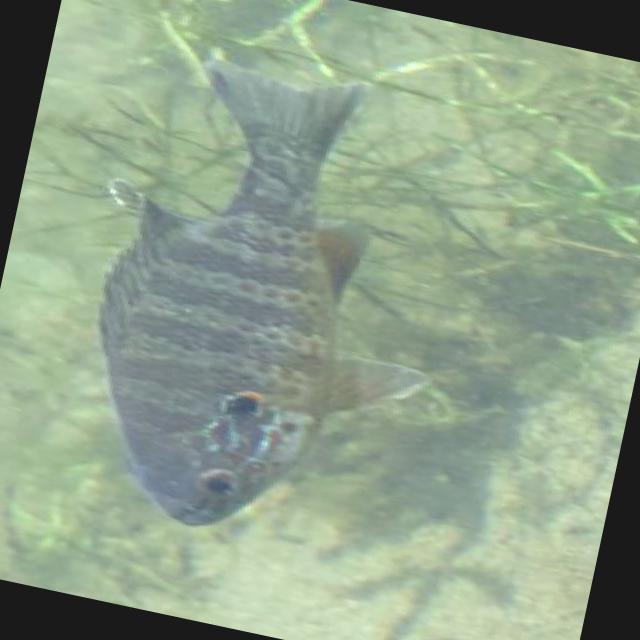Gunes Levregi: (51, 32, 483, 569)
